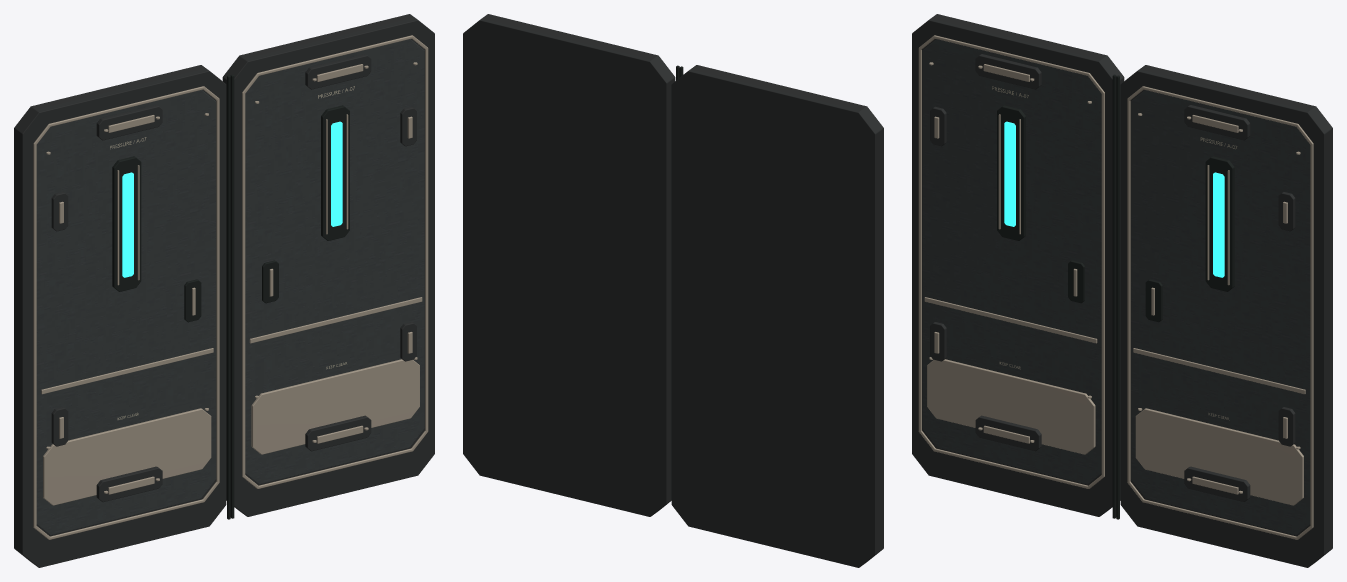
Rendered from cabin-master-sliding-leaves.glb.
3 renders of one model, left to right at view 1: azimuth 30°, elevation 25°; view 2: azimuth 150°, elevation 25°; view 3: azimuth 330°, elevation 25°, orthographic.
Parts seen in each view (by area): view 1: CABIN_MASTER_LEAF_LEFT_SLIDE_CABIN_PBR_STUDIO_Warm_graphite_, CABIN_MASTER_LEAF_RIGHT_SLIDE_CABIN_PBR_STUDIO_Warm_graphite, CABIN_MASTER_LEAF_LEFT_SLIDE_CABIN_PBR_STUDIO_Powder_coated_, CABIN_MASTER_LEAF_RIGHT_SLIDE_CABIN_PBR_STUDIO_Powder_coated, CABIN_MASTER_LEAF_LEFT_SLIDE_CABIN_PBR_STUDIO_Worn_machined_, CABIN_MASTER_LEAF_RIGHT_SLIDE_CABIN_PBR_STUDIO_Worn_machined, CABIN_MASTER_LEAF_RIGHT_SLIDE_CABIN_PBR_STUDIO_Carbon_rubber, CABIN_MASTER_LEAF_LEFT_SLIDE_CABIN_PBR_STUDIO_Carbon_rubber, CABIN_MASTER_LEAF_LEFT_SLIDE_CABIN_PBR_CABIN_REFERENCE_Cyan_, CABIN_MASTER_LEAF_RIGHT_SLIDE_CABIN_PBR_CABIN_REFERENCE_Cyan; view 2: CABIN_MASTER_LEAF_LEFT_SLIDE_CABIN_PBR_STUDIO_Powder_coated_, CABIN_MASTER_LEAF_RIGHT_SLIDE_CABIN_PBR_STUDIO_Powder_coated; view 3: CABIN_MASTER_LEAF_RIGHT_SLIDE_CABIN_PBR_STUDIO_Warm_graphite, CABIN_MASTER_LEAF_LEFT_SLIDE_CABIN_PBR_STUDIO_Warm_graphite_, CABIN_MASTER_LEAF_RIGHT_SLIDE_CABIN_PBR_STUDIO_Powder_coated, CABIN_MASTER_LEAF_LEFT_SLIDE_CABIN_PBR_STUDIO_Powder_coated_, CABIN_MASTER_LEAF_RIGHT_SLIDE_CABIN_PBR_STUDIO_Worn_machined, CABIN_MASTER_LEAF_LEFT_SLIDE_CABIN_PBR_STUDIO_Worn_machined_, CABIN_MASTER_LEAF_LEFT_SLIDE_CABIN_PBR_STUDIO_Carbon_rubber, CABIN_MASTER_LEAF_RIGHT_SLIDE_CABIN_PBR_STUDIO_Carbon_rubber, CABIN_MASTER_LEAF_RIGHT_SLIDE_CABIN_PBR_CABIN_REFERENCE_Cyan, CABIN_MASTER_LEAF_LEFT_SLIDE_CABIN_PBR_CABIN_REFERENCE_Cyan_.
Part boxes in pixels (x1,y1,x2,y2): CABIN_MASTER_LEAF_LEFT_SLIDE_CABIN_PBR_STUDIO_Warm_graphite_: (36,90,216,535); CABIN_MASTER_LEAF_RIGHT_SLIDE_CABIN_PBR_STUDIO_Warm_graphite: (245,39,424,484); CABIN_MASTER_LEAF_LEFT_SLIDE_CABIN_PBR_STUDIO_Powder_coated_: (14,65,226,567); CABIN_MASTER_LEAF_RIGHT_SLIDE_CABIN_PBR_STUDIO_Powder_coated: (222,14,434,516); CABIN_MASTER_LEAF_LEFT_SLIDE_CABIN_PBR_STUDIO_Worn_machined_: (33,86,219,539); CABIN_MASTER_LEAF_RIGHT_SLIDE_CABIN_PBR_STUDIO_Worn_machined: (242,35,428,488); CABIN_MASTER_LEAF_RIGHT_SLIDE_CABIN_PBR_STUDIO_Carbon_rubber: (230,74,349,518); CABIN_MASTER_LEAF_LEFT_SLIDE_CABIN_PBR_STUDIO_Carbon_rubber: (112,75,230,519); CABIN_MASTER_LEAF_LEFT_SLIDE_CABIN_PBR_CABIN_REFERENCE_Cyan_: (122,172,133,277); CABIN_MASTER_LEAF_RIGHT_SLIDE_CABIN_PBR_CABIN_REFERENCE_Cyan: (331,121,342,226); CABIN_MASTER_LEAF_LEFT_SLIDE_CABIN_PBR_STUDIO_Powder_coated_: (671,65,883,567); CABIN_MASTER_LEAF_RIGHT_SLIDE_CABIN_PBR_STUDIO_Powder_coated: (463,14,675,516); CABIN_MASTER_LEAF_RIGHT_SLIDE_CABIN_PBR_STUDIO_Warm_graphite: (1130,90,1310,535); CABIN_MASTER_LEAF_LEFT_SLIDE_CABIN_PBR_STUDIO_Warm_graphite_: (922,39,1101,484); CABIN_MASTER_LEAF_RIGHT_SLIDE_CABIN_PBR_STUDIO_Powder_coated: (1120,65,1332,567); CABIN_MASTER_LEAF_LEFT_SLIDE_CABIN_PBR_STUDIO_Powder_coated_: (912,14,1124,516); CABIN_MASTER_LEAF_RIGHT_SLIDE_CABIN_PBR_STUDIO_Worn_machined: (1127,86,1313,539); CABIN_MASTER_LEAF_LEFT_SLIDE_CABIN_PBR_STUDIO_Worn_machined_: (918,35,1104,488); CABIN_MASTER_LEAF_LEFT_SLIDE_CABIN_PBR_STUDIO_Carbon_rubber: (997,74,1116,518); CABIN_MASTER_LEAF_RIGHT_SLIDE_CABIN_PBR_STUDIO_Carbon_rubber: (1116,75,1234,519); CABIN_MASTER_LEAF_RIGHT_SLIDE_CABIN_PBR_CABIN_REFERENCE_Cyan: (1213,172,1224,277); CABIN_MASTER_LEAF_LEFT_SLIDE_CABIN_PBR_CABIN_REFERENCE_Cyan_: (1004,121,1015,226).
Bounding box in the file's own units: 2.71 × 2.86 × 0.196.
6 materials, 5 textured.
